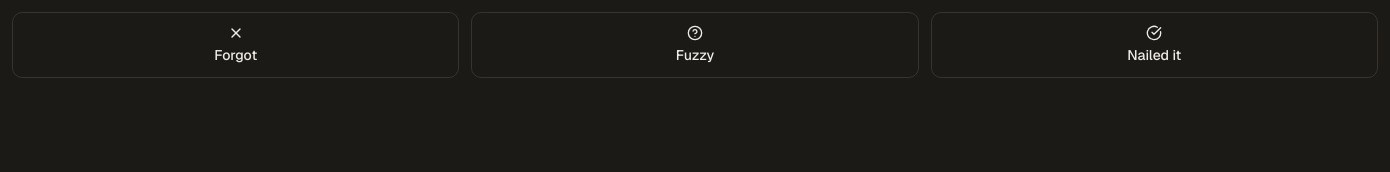
Test: ReviewButtons › disables all buttons after one is clicked
Click the button "Nailed it". click: x=1154, y=45
box: x1=931 y1=12 x2=1378 y2=78
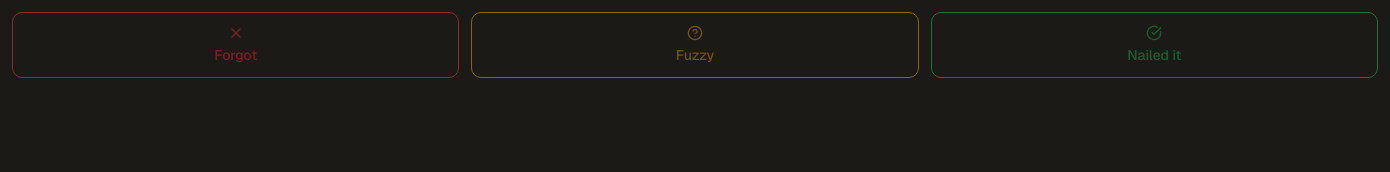
Expected: the button "Forgot" is disabled, x1=12 y1=12 x2=459 y2=78
Expected: the button "Fuzzy" is disabled, x1=471 y1=12 x2=919 y2=78
Expected: the button "Nailed it" is disabled, x1=931 y1=12 x2=1378 y2=78
